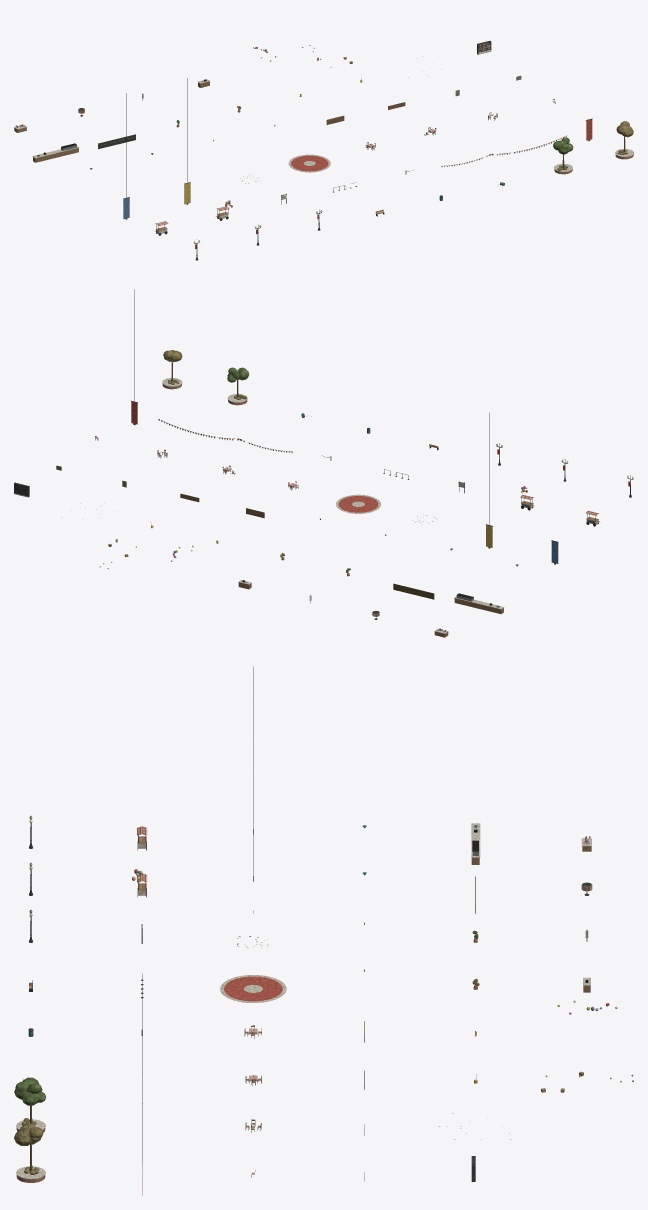
Rendered from LotteWorld_Props.fbx.
3 views of the same model, one above another, from view 1: azimuth 30°, elevation 25°; view 2: azimuth 150°, elevation 25°; view 3: azimuth 270°, elevation 25° (orthographic). The views are drawn at different scales.
Visible parts, largest first — view 1: Prop_Medallion__LW_Prop_FadedRed.001; view 2: Prop_Medallion__LW_Prop_FadedRed.001; view 3: Prop_Medallion__LW_Prop_FadedRed.001.
Boxes of the visible parts, left/top/right/bottom form: Prop_Medallion__LW_Prop_FadedRed.001: left=291, top=155, right=328, bottom=171; Prop_Medallion__LW_Prop_FadedRed.001: left=338, top=496, right=378, bottom=512; Prop_Medallion__LW_Prop_FadedRed.001: left=224, top=976, right=282, bottom=1001.
Bounding box in the file's own units: 105 × 27.75 × 78.06.
